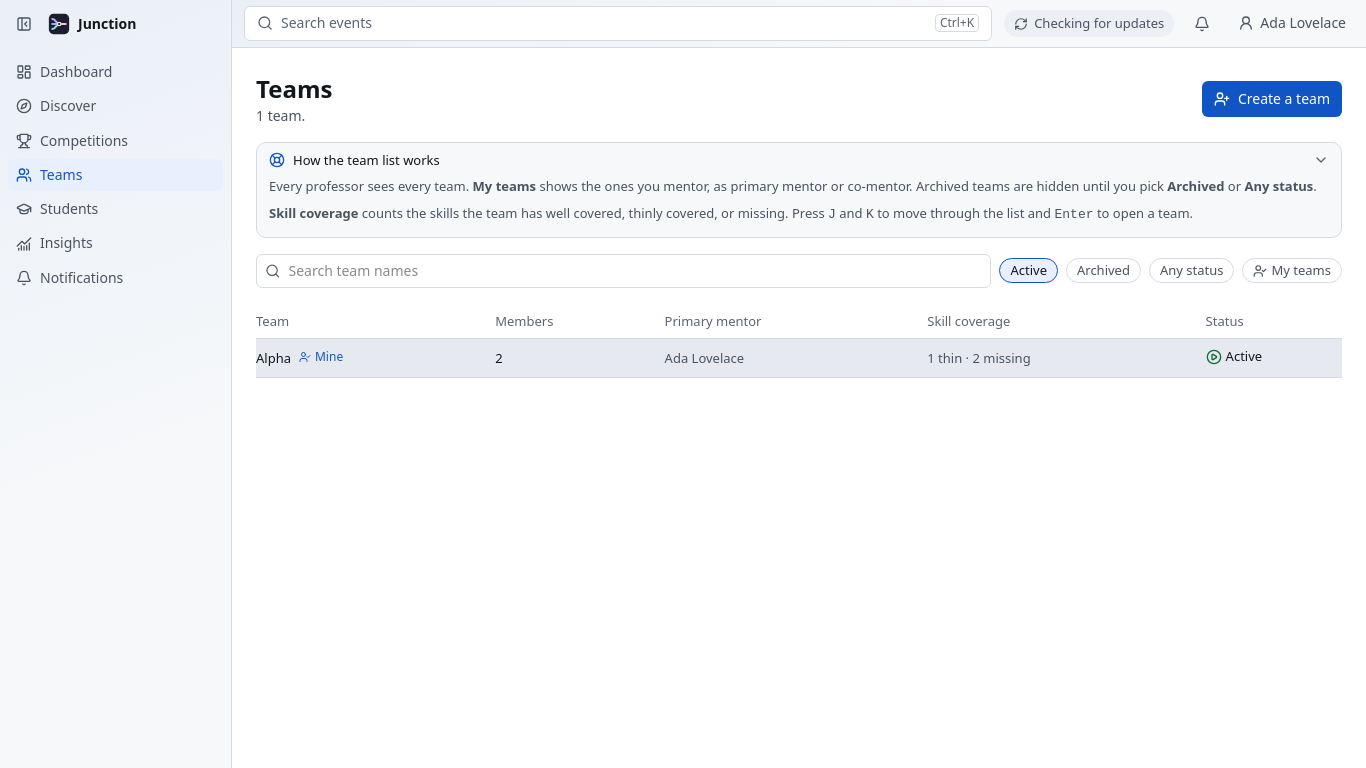
Test case: no enum value or ISO timestamp reaches the screen › on the list, any status
Expected: the navigation bar named "Main" is shown, left=0, top=0, right=231, bottom=302
Expected: the text "Alpha" is shown, left=256, top=349, right=291, bottom=367
Click the button "Any status": click(1192, 271) left=1149, top=258, right=1234, bottom=283
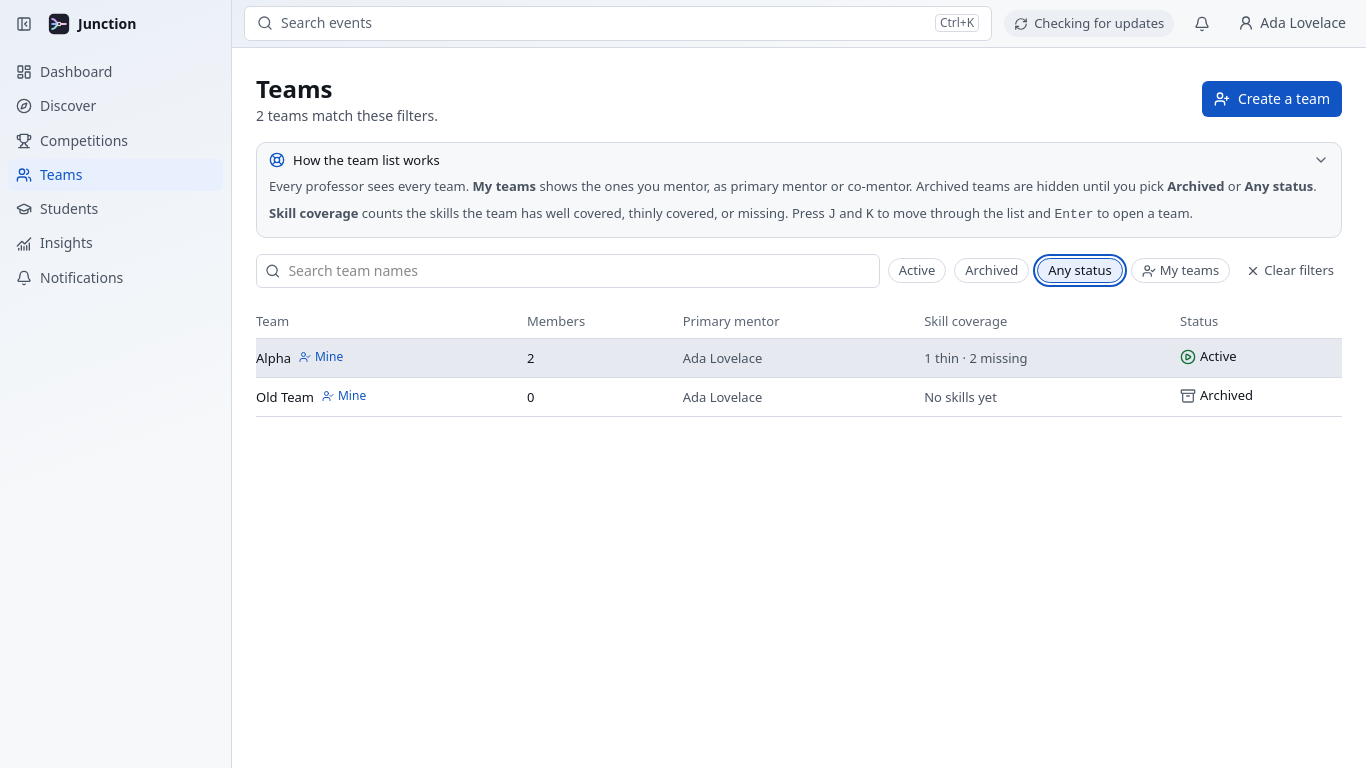
Result: the text "Old Team" is shown at left=256, top=388, right=314, bottom=406
Result: the text "Archived" is shown at left=1180, top=386, right=1253, bottom=405
